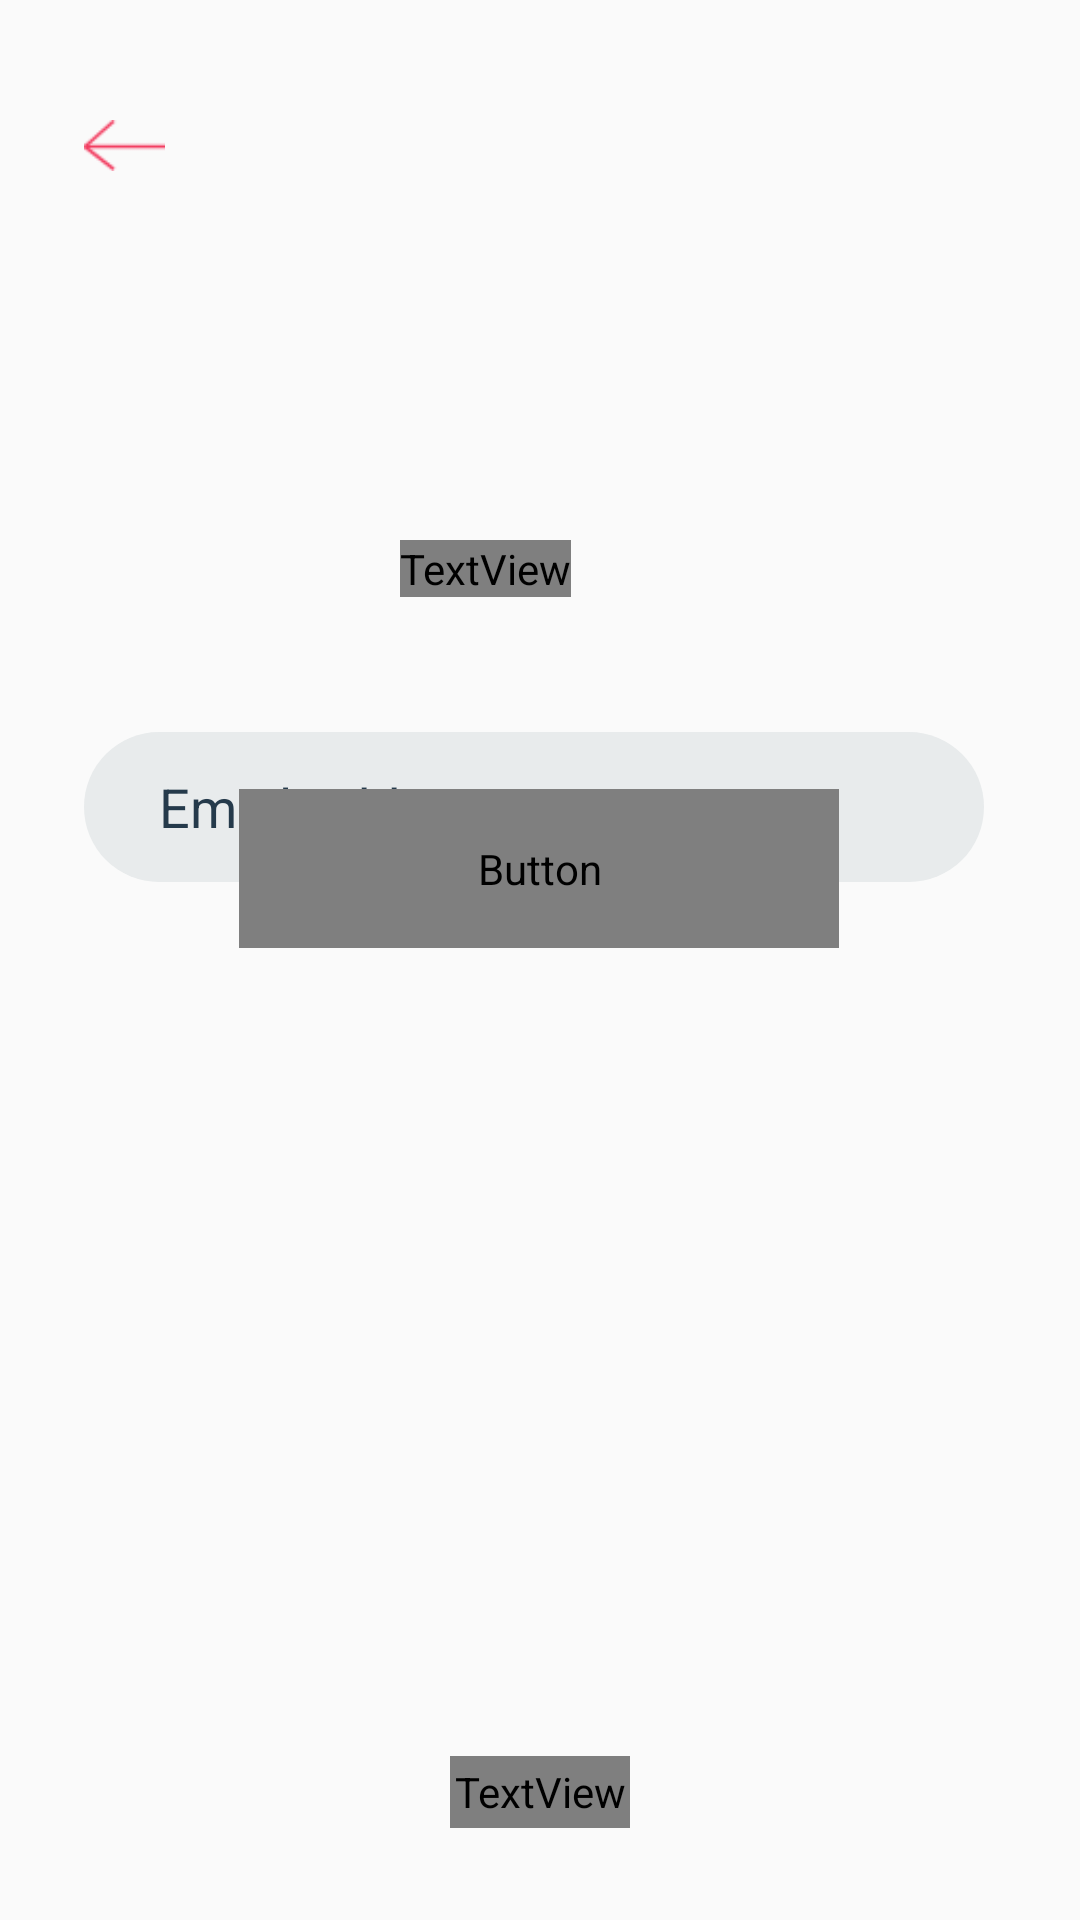

Icon bounding boxes for this 1080px x 1920px phone screenshot, format (x1, y1, x2, y2):
arrow: (84, 120, 165, 171)
